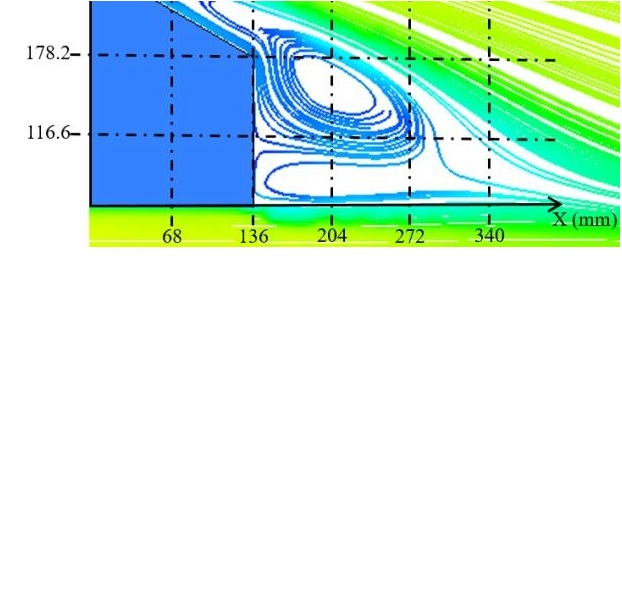vortox: (257, 28, 422, 157)
